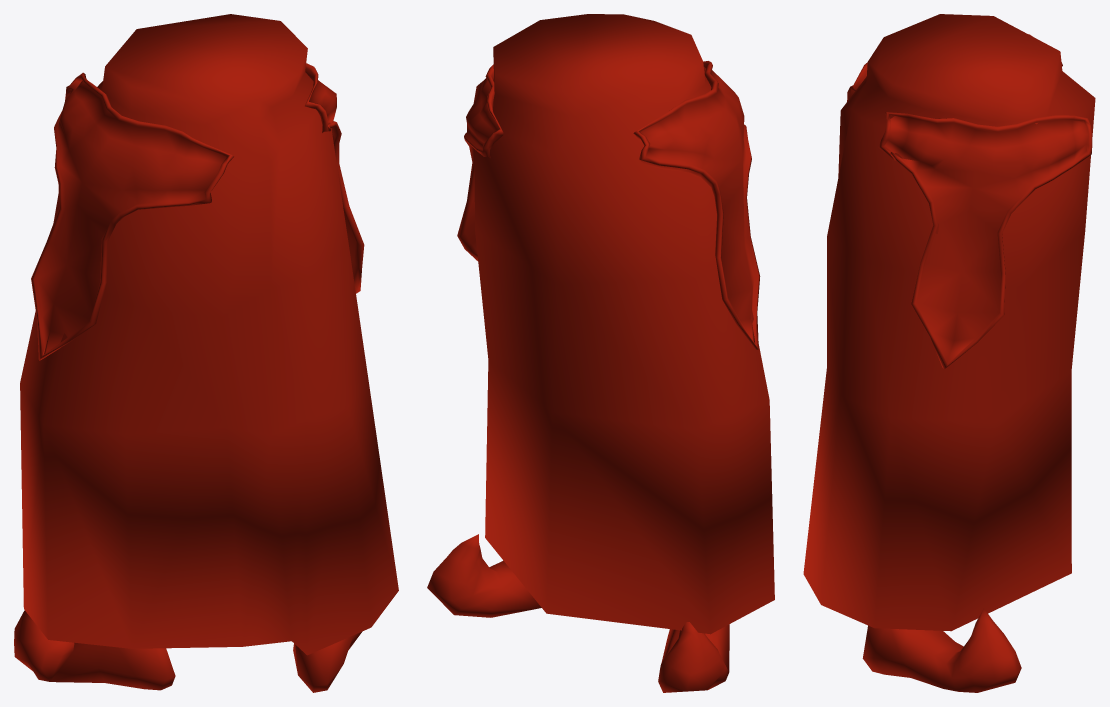
Rendered from bot_000061.obj.
3 views of the same model, side by side, from view 1: azimuth 30°, elevation 25°; view 2: azimuth 150°, elevation 25°; view 3: azimuth 270°, elevation 25° (orthographic). The views are drawn at different scales.
Visible parts, largest first — view 1: LowPoly_Warlock.004_Plane.004; view 2: LowPoly_Warlock.004_Plane.004; view 3: LowPoly_Warlock.004_Plane.004.
Part boxes in pixels (x1,y1,x2,y2): LowPoly_Warlock.004_Plane.004: [14, 14, 398, 692]; LowPoly_Warlock.004_Plane.004: [427, 14, 774, 692]; LowPoly_Warlock.004_Plane.004: [803, 14, 1095, 692].
Size of the model in its own units: 0.6284 by 1.12 by 0.5058.
